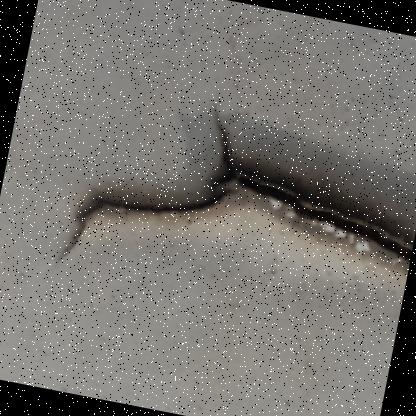Crack: (30, 24, 415, 372)
